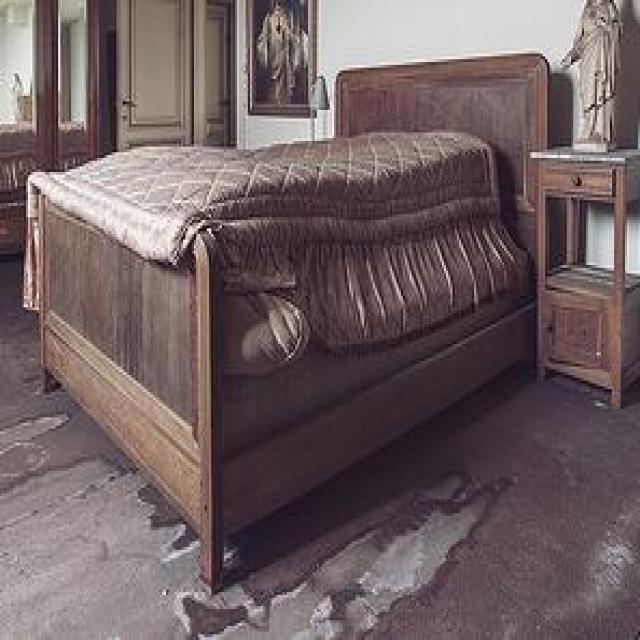bed: (22, 51, 550, 592)
table: (528, 141, 638, 406)
